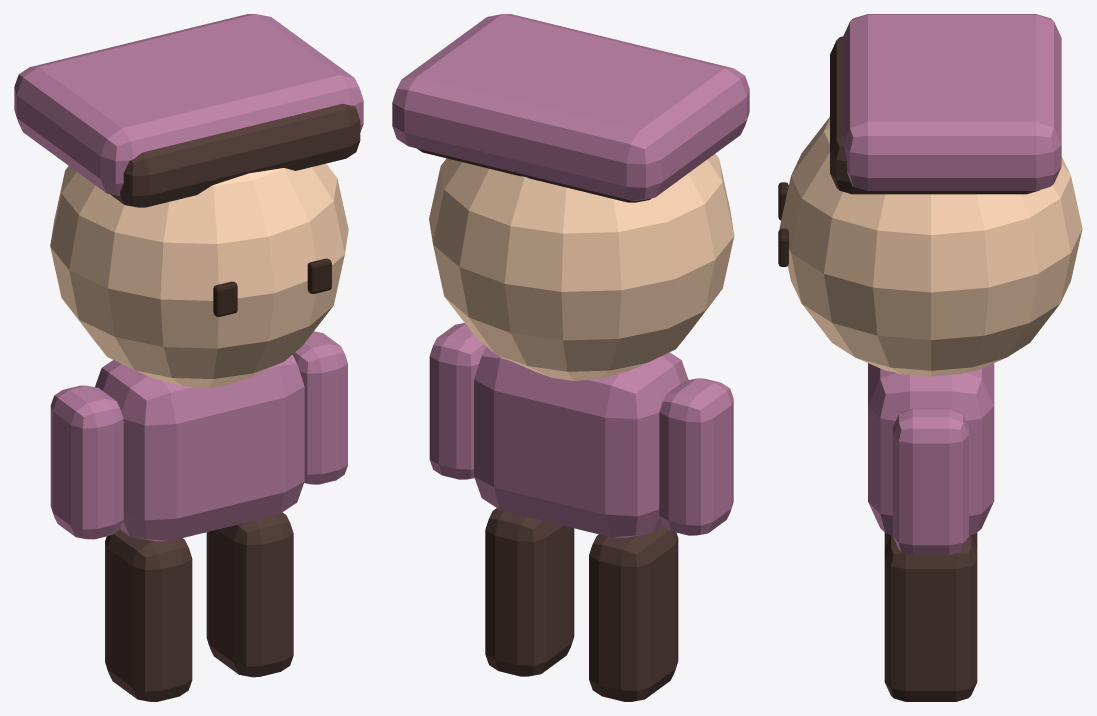
Rendered from kar_buKos.fbx.
The picture shows the model from 3 angles, left to right: view 1: azimuth 30°, elevation 25°; view 2: azimuth 150°, elevation 25°; view 3: azimuth 270°, elevation 25°; orthographic projection. The views are drawn at different scales.
Parts seen in each view (by area): view 1: kar_buKos; view 2: kar_buKos; view 3: kar_buKos.
Boxes of the visible parts, <box> form: kar_buKos: <box>14,14,363,701</box>; kar_buKos: <box>392,14,749,701</box>; kar_buKos: <box>778,14,1082,701</box>.
Bounding box in the file's own units: 76 × 158 × 72.25.
1 material, 1 textured.
